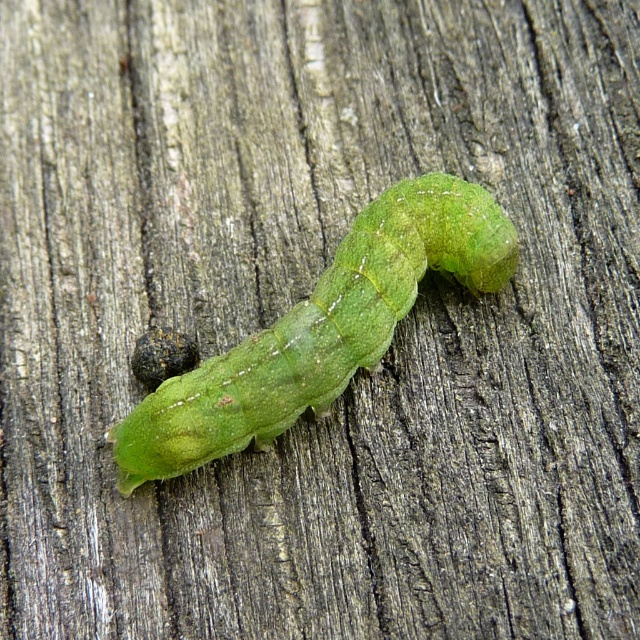Caterpillar: (113, 169, 520, 498)
